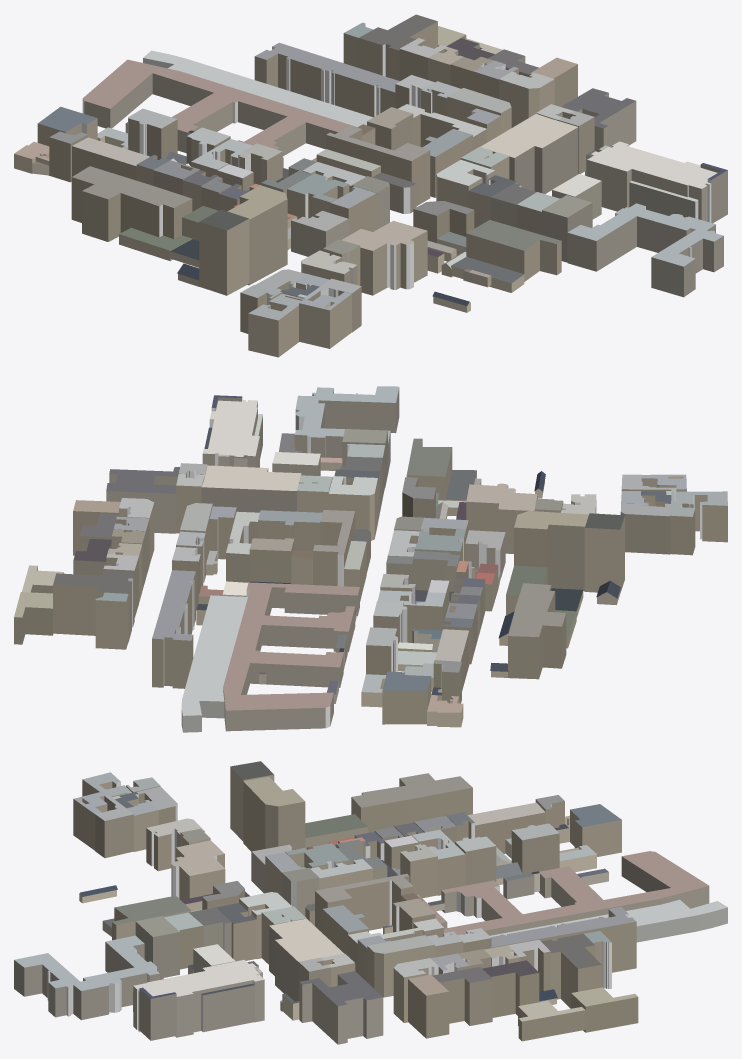
3 views of the same model, one above another, from view 1: azimuth 30°, elevation 25°; view 2: azimuth 150°, elevation 25°; view 3: azimuth 270°, elevation 25° (orthographic). The views are drawn at different scales.
Parts seen in each view (by area): view 1: tuile; view 2: tuile; view 3: tuile.
Boxes of the visible parts, x1,y1,x2,y2 form: tuile: (14,14,727,357); tuile: (14,386,727,732); tuile: (14,761,727,1044).
Bounding box in the file's own units: 264 × 41.15 × 339.
